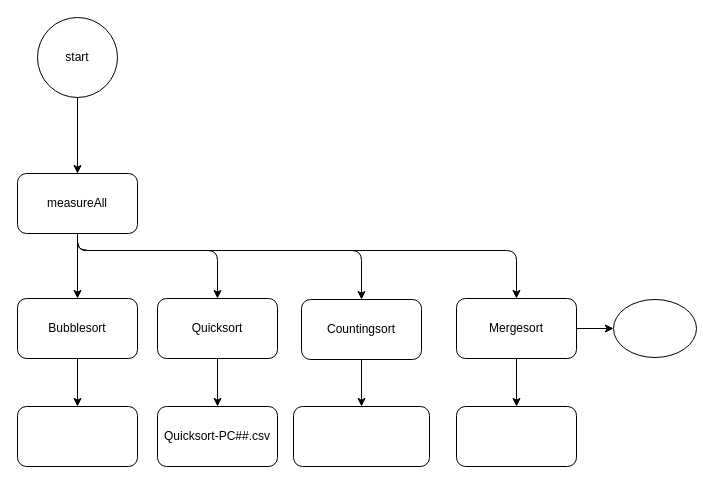
The diagram is 714 pixels wide and 484 high, and some of its shapes have lost their labels. The centre of each missing label's shape, as x and y in pixels:
Bubblesort-PC##.csv: the point at 77,436
Countingsort-PC##.csv: the point at 361,436
Mergesort-PC##.csv: the point at 516,436
stop: the point at 654,328
